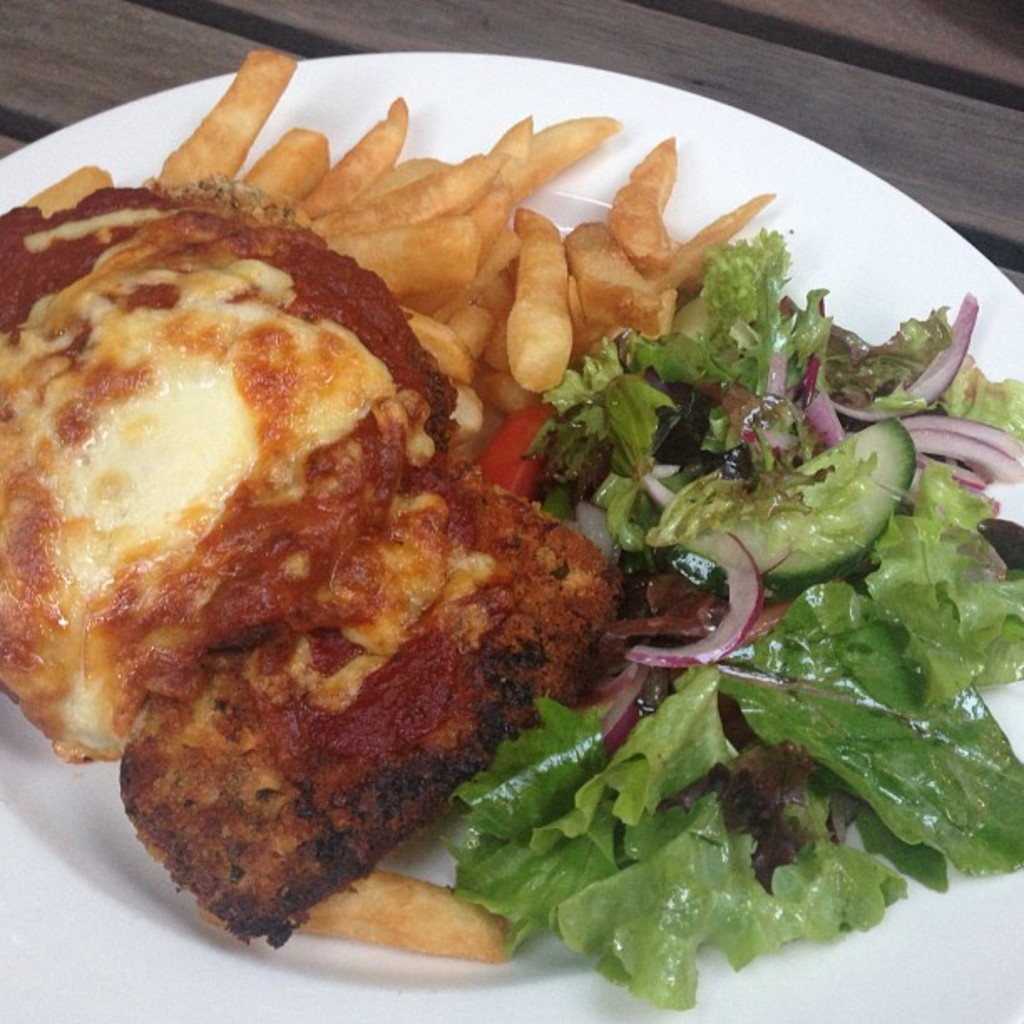French fries: (130, 23, 774, 445), (219, 868, 518, 983)
